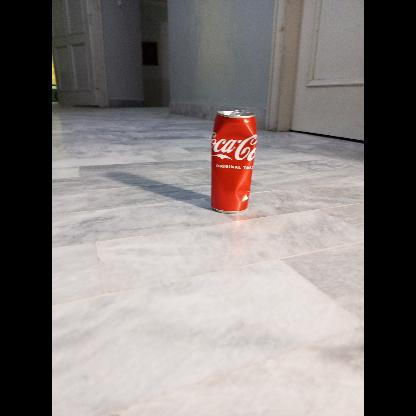Dent_Can: (212, 122, 257, 161), (235, 179, 251, 208)
Lid_Open: (226, 108, 244, 121)
Tin_Can: (208, 106, 260, 214)
